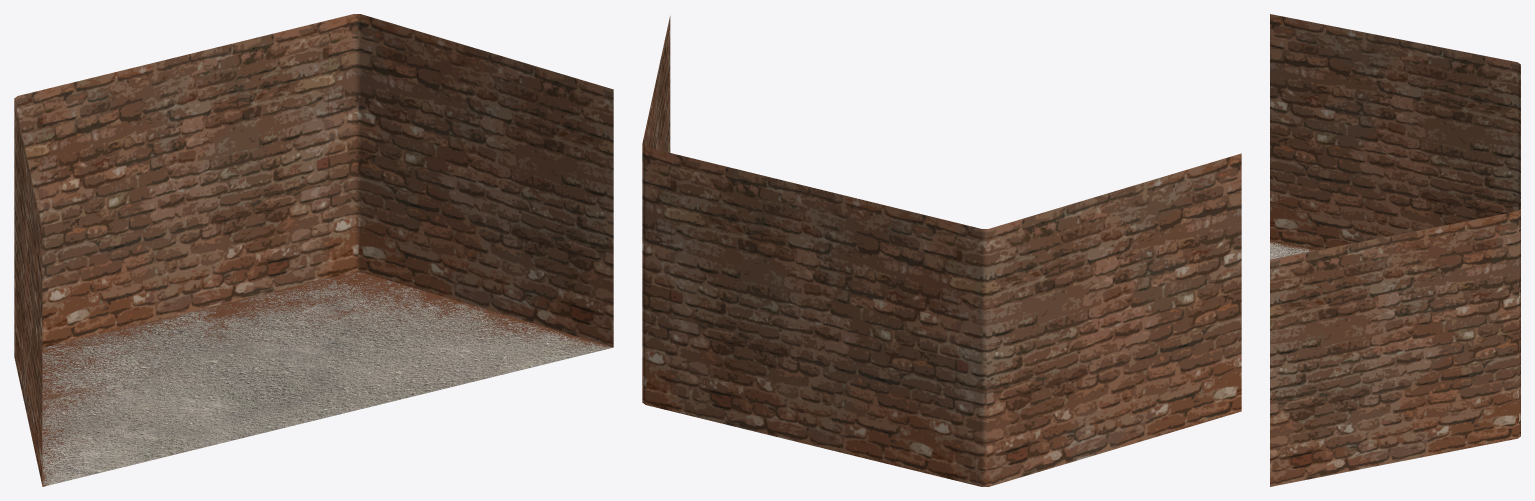
The model's file is Wall and floor.fbx.
3 renders of one model, left to right at view 1: azimuth 30°, elevation 25°; view 2: azimuth 150°, elevation 25°; view 3: azimuth 270°, elevation 25°, orthographic. The views are drawn at different scales.
Visible parts, largest first — view 1: Modular Wall, Floor; view 2: Modular Wall; view 3: Modular Wall, Floor.
Boxes of the visible parts, left/top/right/bottom form: Modular Wall: left=14, top=14, right=613, bottom=484; Floor: left=42, top=272, right=612, bottom=486; Modular Wall: left=642, top=16, right=1241, bottom=486; Modular Wall: left=1270, top=14, right=1520, bottom=486; Floor: left=1270, top=241, right=1316, bottom=259.
Bounding box in the file's own units: 7543 × 3257 × 3257.
